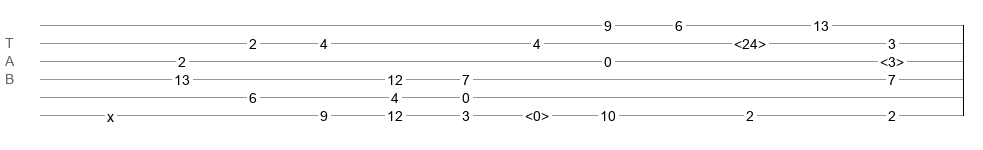0: (462, 90, 470, 100), (604, 54, 612, 64)
10: (600, 108, 616, 118)
12: (387, 72, 403, 82), (387, 108, 403, 118)
13: (174, 72, 190, 82), (813, 18, 829, 28)
2: (178, 54, 186, 64), (249, 36, 257, 46), (746, 108, 754, 118), (888, 108, 896, 118)
3: (462, 108, 470, 118), (888, 36, 896, 46)
4: (320, 36, 328, 46), (391, 90, 399, 100), (533, 36, 541, 46)
6: (249, 90, 257, 100), (675, 18, 683, 28)
7: (462, 72, 470, 82), (888, 72, 896, 82)
9: (320, 108, 328, 118), (604, 18, 612, 28)
harmonic: (734, 36, 766, 46), (525, 108, 549, 118), (880, 54, 904, 64)
x: (107, 109, 114, 117)
